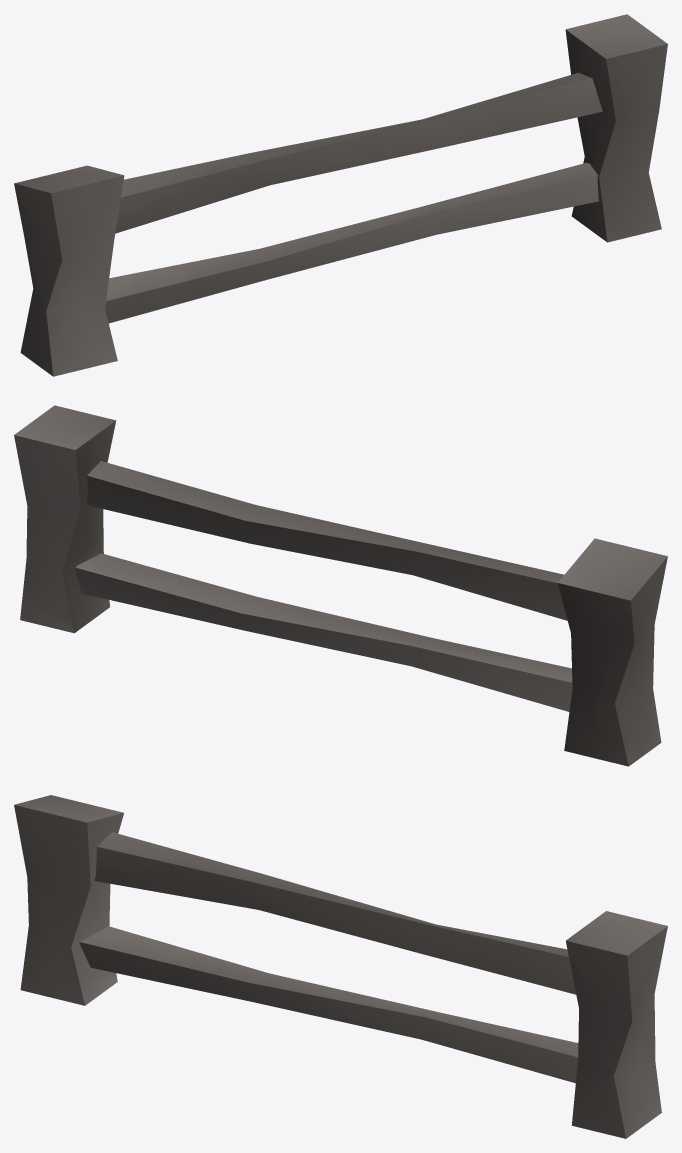
The model's file is Dwarf_Village_Props_09.FBX.
3 renders of one model, top to bottom at view 1: azimuth 30°, elevation 25°; view 2: azimuth 150°, elevation 25°; view 3: azimuth 330°, elevation 25°, orthographic.
Visible parts, largest first — view 1: Dwarf_Village_Props_09; view 2: Dwarf_Village_Props_09; view 3: Dwarf_Village_Props_09.
Part boxes in pixels (x1,y1,x2,y2): Dwarf_Village_Props_09: [14, 14, 667, 376]; Dwarf_Village_Props_09: [14, 405, 667, 766]; Dwarf_Village_Props_09: [14, 795, 667, 1138].
Bounding box in the file's own units: 708 × 205 × 81.
